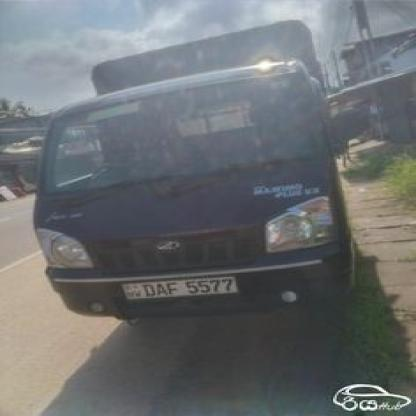Lorry front: (23, 19, 382, 324)
number plate: (119, 274, 244, 301)
